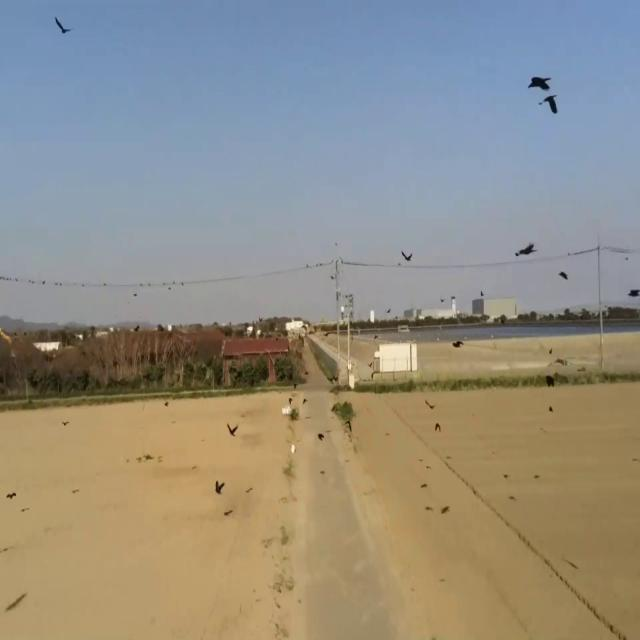bird: (528, 67, 554, 107), (539, 84, 558, 120), (55, 11, 71, 43), (516, 235, 534, 263), (226, 417, 238, 443), (628, 281, 640, 305), (215, 472, 225, 500), (401, 246, 413, 267), (5, 485, 17, 506), (559, 264, 568, 284), (434, 417, 441, 435)
